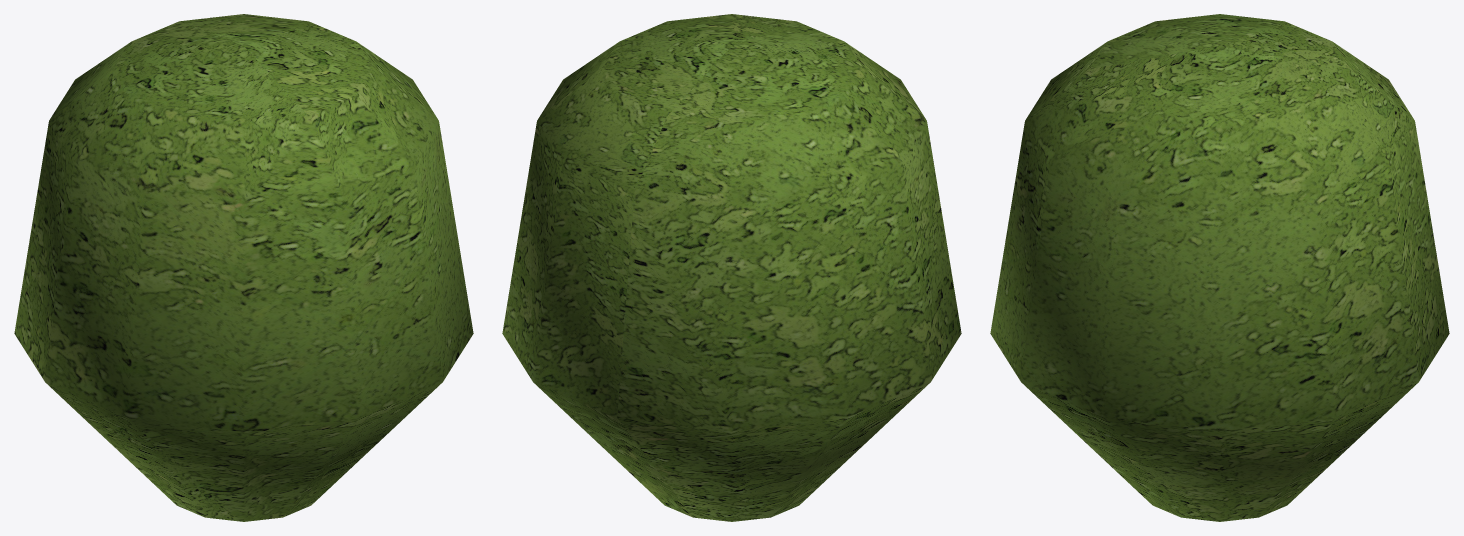
File: TreeTop3.FBX
3 views of the same model, side by side, from view 1: azimuth 30°, elevation 25°; view 2: azimuth 150°, elevation 25°; view 3: azimuth 270°, elevation 25° (orthographic).
Parts seen in each view (by area): view 1: Cone008; view 2: Cone008; view 3: Cone008.
Boxes of the visible parts, bbox=[...] form: Cone008: bbox=[14, 14, 473, 521]; Cone008: bbox=[502, 14, 961, 521]; Cone008: bbox=[990, 14, 1449, 521].
Bounding box in the file's own units: 140 × 158 × 140.
